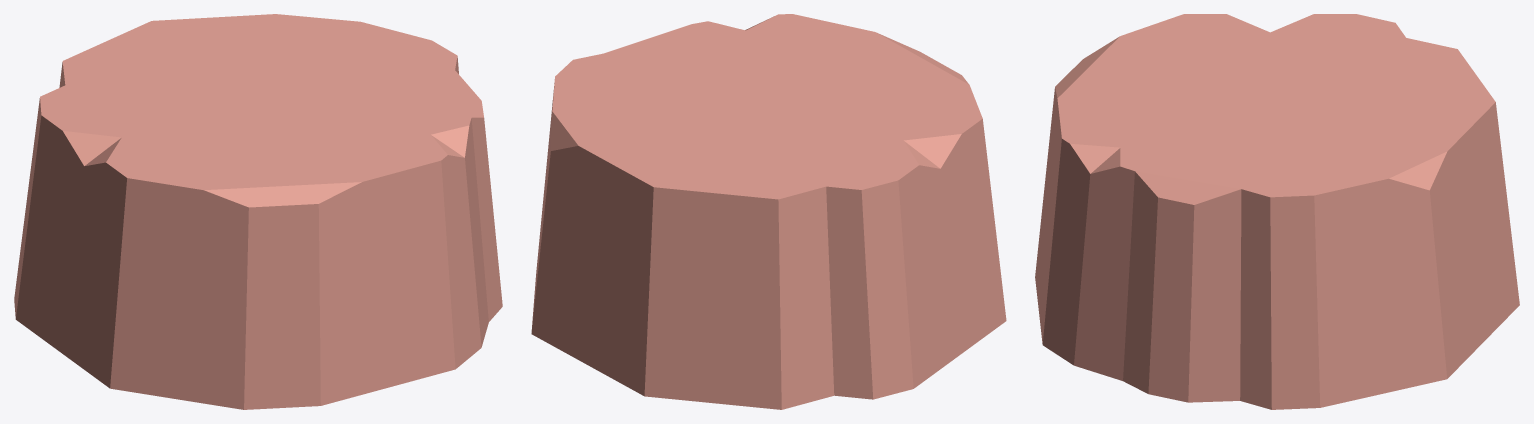
The model's file is Cylinder_005_Vlad.fbx.
3 renders of one model, left to right at view 1: azimuth 30°, elevation 25°; view 2: azimuth 150°, elevation 25°; view 3: azimuth 270°, elevation 25°, orthographic. The views are drawn at different scales.
Parts seen in each view (by area): view 1: Cylinder.005; view 2: Cylinder.005; view 3: Cylinder.005.
Boxes of the visible parts, box(x1,y1,x2,y2) form: Cylinder.005: box(14, 14, 502, 409); Cylinder.005: box(531, 14, 1006, 409); Cylinder.005: box(1035, 14, 1519, 409).
Size of the model in its own units: 212 by 100 by 215.
